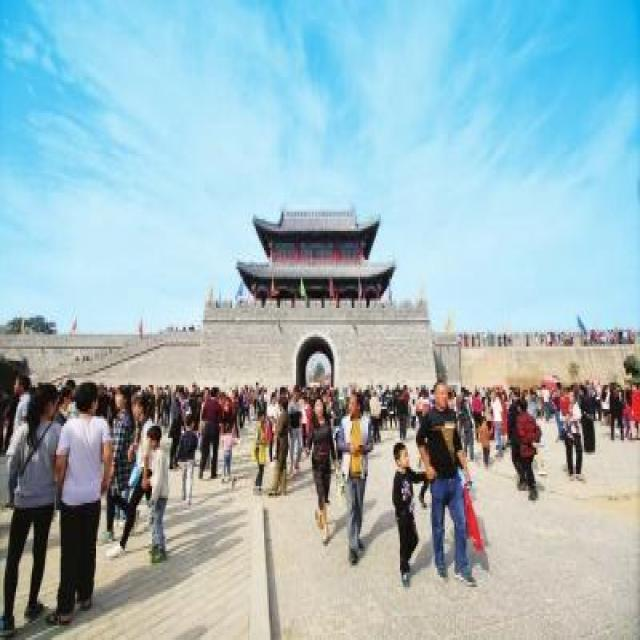non-fight: (48, 378, 116, 620), (2, 383, 64, 628), (416, 378, 478, 592), (334, 385, 373, 563), (301, 373, 334, 546), (506, 388, 546, 500), (143, 418, 173, 560), (264, 385, 298, 496), (195, 383, 222, 481)
